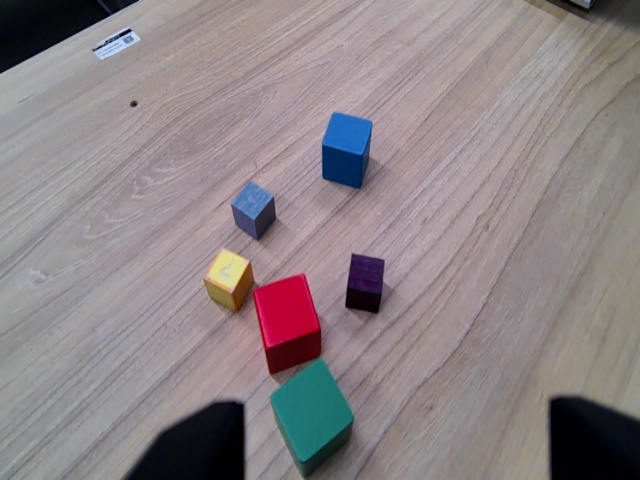brick: (340, 246, 388, 317)
lucky: (194, 245, 260, 316)
stone: (226, 178, 279, 242)
